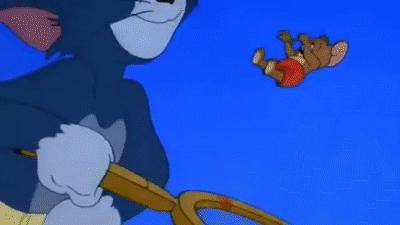jerry: (248, 29, 349, 88)
